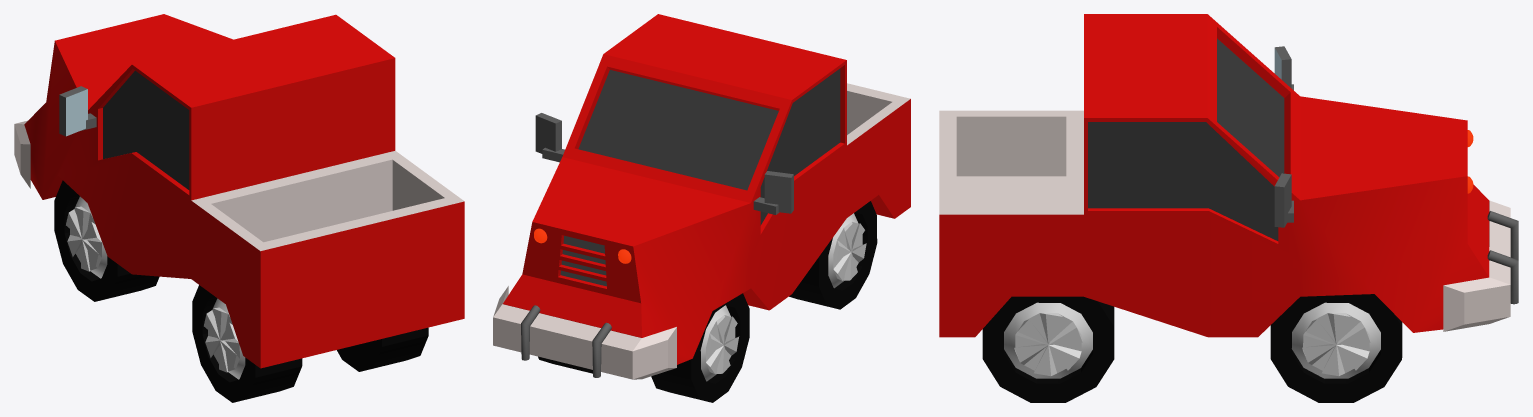
The model's file is Car_Pickup_4.glb.
3 views of the same model, side by side, from view 1: azimuth 30°, elevation 25°; view 2: azimuth 150°, elevation 25°; view 3: azimuth 270°, elevation 25° (orthographic). The views are drawn at different scales.
Parts seen in each view (by area): view 1: Cube.5543, Cylinder.4498, Cylinder.4497, Cylinder.4496, Cube.5545, Cube.5544; view 2: Cube.5543, Cube.5544, Cylinder.4497, Cylinder.4498, Cube.5545, Cube.5547, Plane.136, Plane.135; view 3: Cube.5543, Cylinder.4496, Cylinder.4495, Cube.5544, Cube.5547, Plane.135, Plane.136, Cube.5545.
Boxes of the visible parts, x1,y1,x2,y2 form: Cube.5543: (24,14,464,368); Cylinder.4498: (192,285,302,402); Cylinder.4497: (54,180,159,301); Cylinder.4496: (337,327,428,371); Cube.5545: (59,86,87,136); Cube.5544: (14,120,30,188); Cube.5543: (503,14,910,364); Cube.5544: (493,286,676,379); Cylinder.4497: (651,293,749,402); Cylinder.4498: (789,201,877,309); Cube.5545: (764,171,793,213); Cube.5547: (535,113,561,153); Plane.136: (592,322,611,377); Plane.135: (521,305,540,360); Cube.5543: (939,14,1489,337); Cylinder.4496: (982,296,1114,402); Cylinder.4495: (1270,294,1402,402); Cube.5544: (1443,200,1510,331); Cube.5547: (1274,173,1291,227); Plane.135: (1487,250,1518,304); Plane.136: (1487,211,1518,259); Cube.5545: (1274,46,1291,88).
Size of the model in its own units: 2.03 by 1.97 by 3.54.
